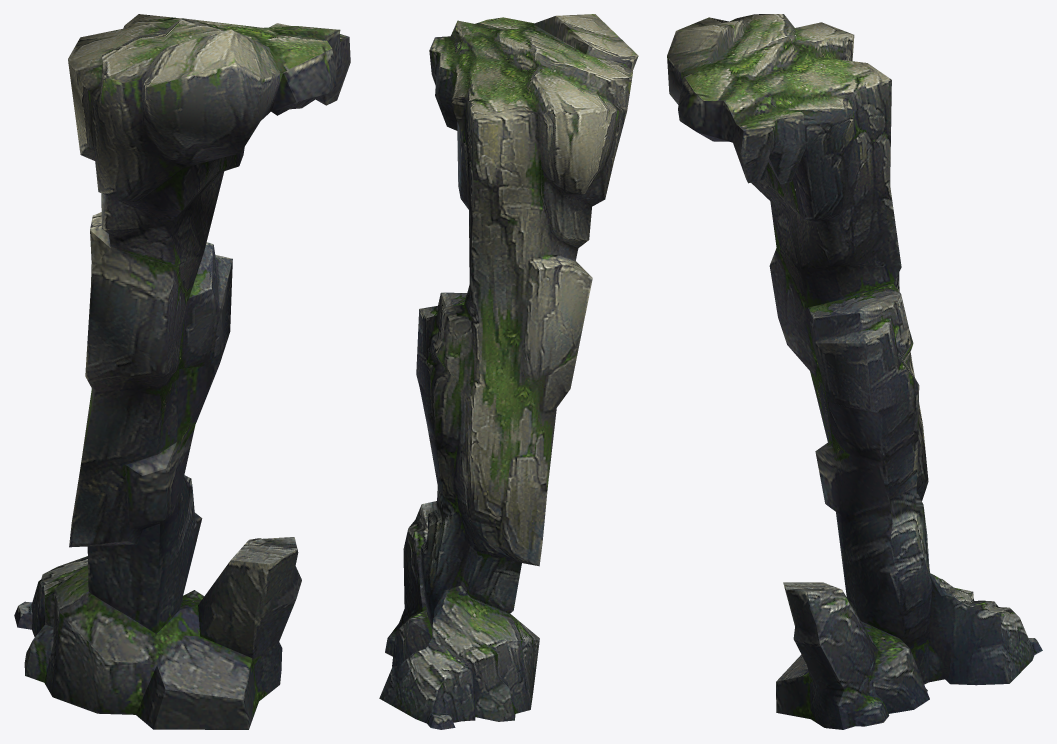
File: 4006_Item_shitou_8.FBX
The picture shows the model from 3 angles, left to right: view 1: azimuth 30°, elevation 25°; view 2: azimuth 150°, elevation 25°; view 3: azimuth 270°, elevation 25°; orthographic projection. The views are drawn at different scales.
Visible parts, largest first — view 1: 4006_Item_shitou_8; view 2: 4006_Item_shitou_8; view 3: 4006_Item_shitou_8.
Part boxes in pixels (bbox=[...]): 4006_Item_shitou_8: bbox=[14, 14, 350, 729]; 4006_Item_shitou_8: bbox=[379, 14, 638, 729]; 4006_Item_shitou_8: bbox=[667, 14, 1042, 729].
Size of the model in its own units: 499 by 754 by 1464.
